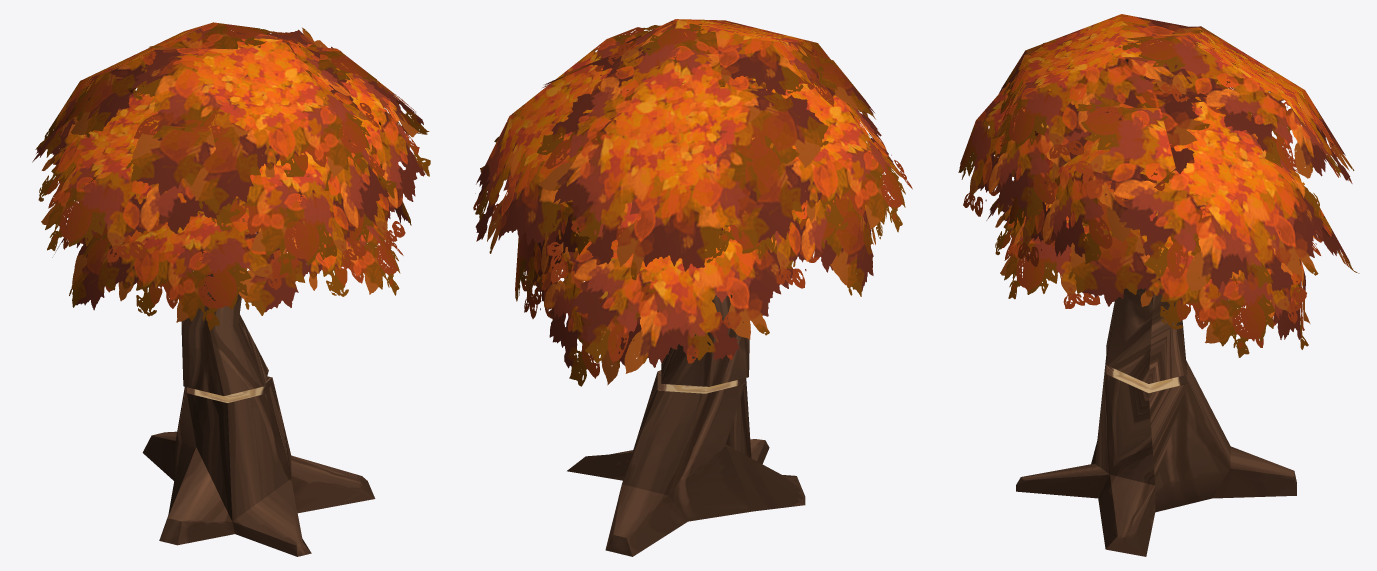
The model's file is TreepiecesV2_breakable.fbx.
The picture shows the model from 3 angles, left to right: view 1: azimuth 30°, elevation 25°; view 2: azimuth 150°, elevation 25°; view 3: azimuth 270°, elevation 25°; orthographic projection. The views are drawn at different scales.
Parts seen in each view (by area): view 1: polySurface86, polySurface15; view 2: polySurface86, polySurface15; view 3: polySurface86, polySurface15.
Boxes of the visible parts, x1,y1,x2,y2 form: polySurface86: [32, 22, 430, 395]; polySurface15: [142, 376, 375, 556]; polySurface86: [473, 19, 912, 386]; polySurface15: [567, 370, 805, 556]; polySurface86: [958, 14, 1359, 383]; polySurface15: [1016, 356, 1296, 556].
Size of the model in its own units: 3.16 by 3.53 by 2.9.
